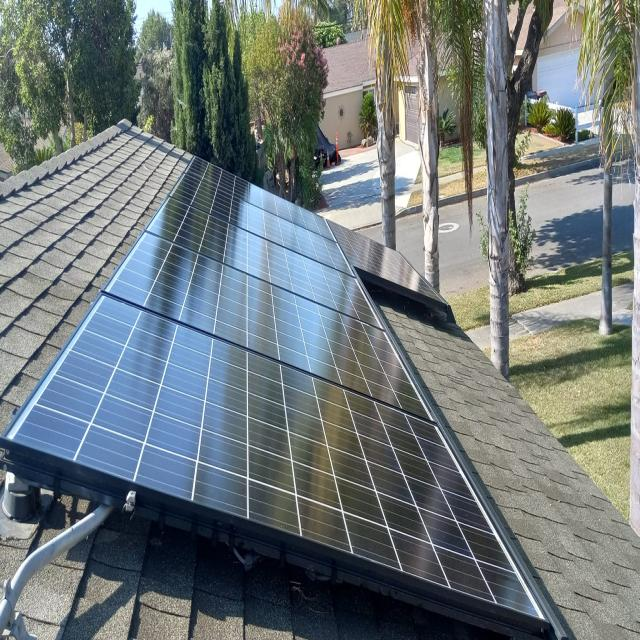clean-solar-panel: (4, 158, 541, 625)
